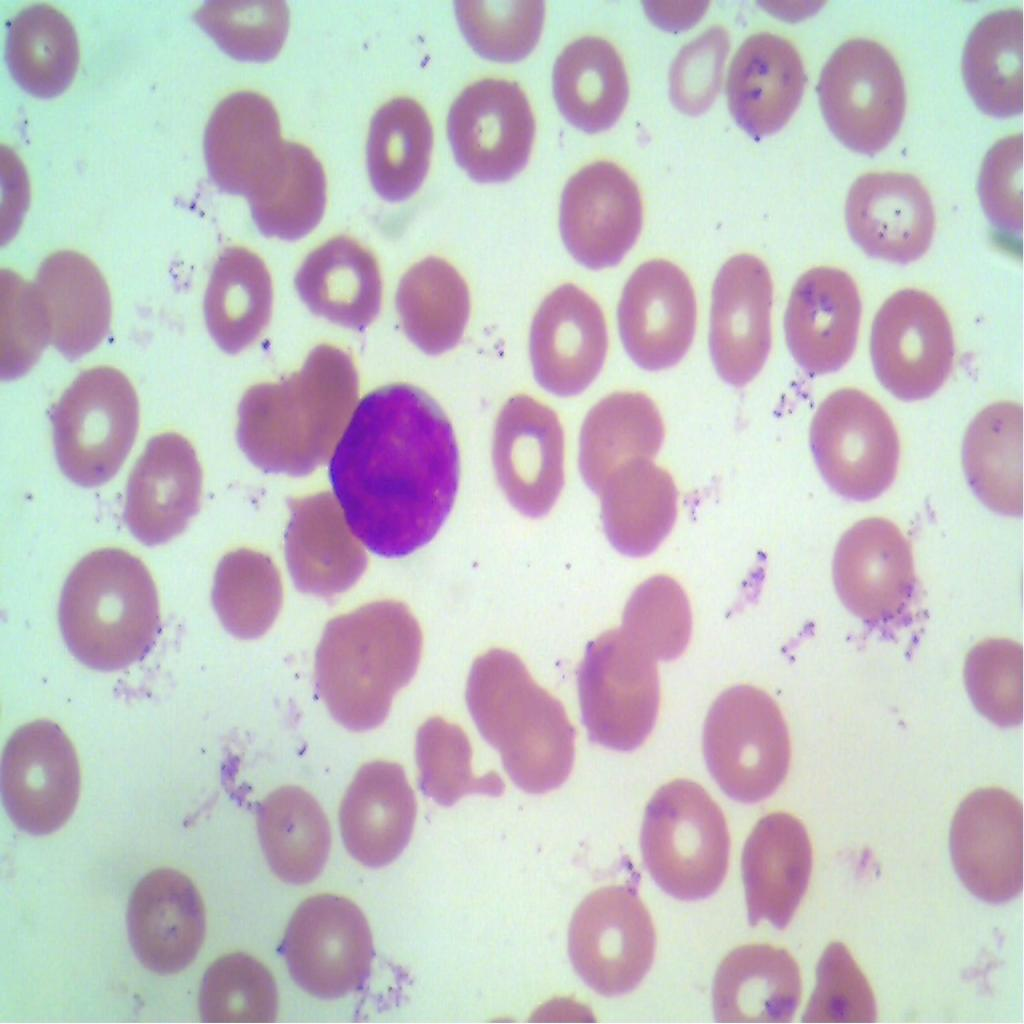Eritrosit: (54, 544, 175, 674), (686, 678, 804, 808), (632, 774, 738, 911), (796, 382, 906, 504), (275, 885, 384, 1007), (50, 358, 141, 504), (811, 29, 911, 161), (478, 390, 574, 524), (868, 275, 961, 408), (558, 877, 660, 998), (839, 159, 942, 277), (830, 504, 924, 632), (326, 744, 419, 872), (116, 862, 218, 978), (436, 74, 538, 188), (610, 246, 702, 372), (0, 714, 89, 844), (551, 155, 649, 272), (702, 248, 782, 388), (724, 25, 806, 161), (938, 776, 1024, 904), (734, 805, 815, 938), (274, 486, 368, 600), (543, 21, 631, 141), (121, 428, 204, 554), (194, 237, 279, 357), (575, 634, 664, 748), (526, 269, 604, 398), (248, 776, 334, 888), (390, 257, 480, 364), (784, 261, 866, 378), (26, 248, 112, 358), (406, 711, 492, 818), (573, 387, 664, 488), (295, 234, 383, 338), (198, 85, 286, 189), (244, 139, 330, 244), (702, 938, 806, 1023), (203, 542, 283, 648), (498, 694, 578, 799), (602, 459, 682, 562), (0, 2, 86, 97), (608, 570, 693, 666), (360, 90, 434, 200), (283, 341, 358, 447), (236, 379, 315, 479), (311, 616, 384, 724), (350, 594, 426, 695), (661, 12, 726, 124), (459, 642, 529, 728)
Limfoblast: (326, 379, 464, 561)
